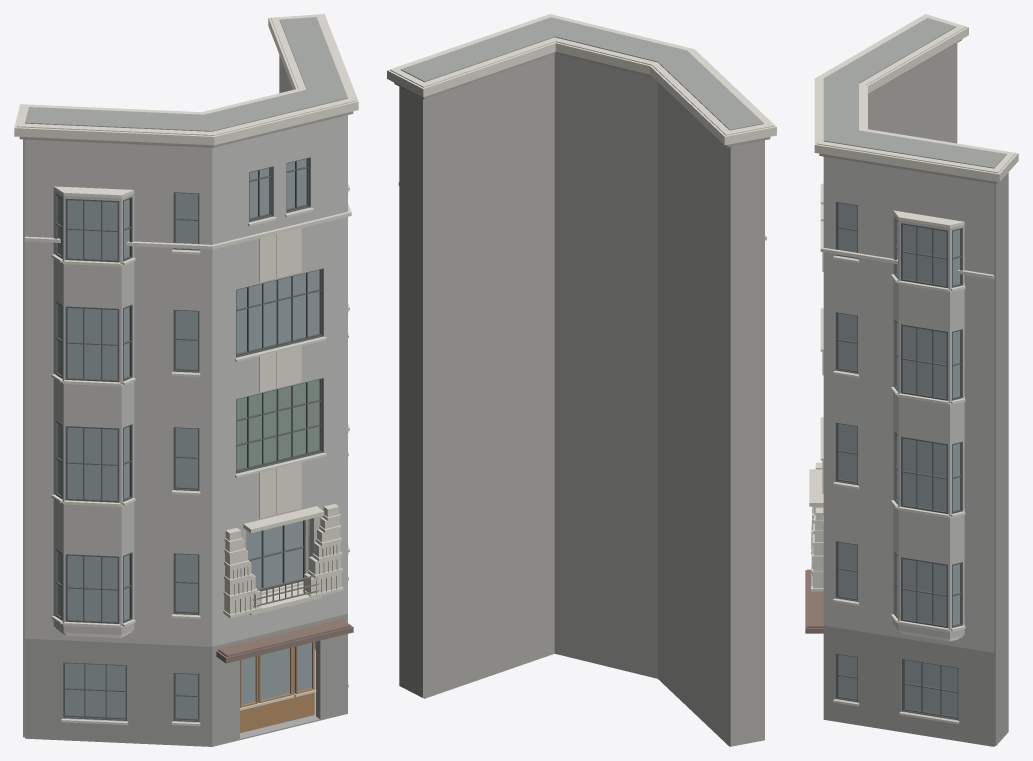
Rendered from xuhui-midget-apartments-web.glb.
3 renders of one model, left to right at view 1: azimuth 30°, elevation 25°; view 2: azimuth 150°, elevation 25°; view 3: azimuth 270°, elevation 25°, orthographic. The views are drawn at different scales.
Visible parts, largest first — view 1: 密丹公寓武康路与湖南路转角立面; view 2: 密丹公寓武康路与湖南路转角立面; view 3: 密丹公寓武康路与湖南路转角立面.
Part boxes in pixels (box(x1,y1,x2,y2)): 密丹公寓武康路与湖南路转角立面: box(14, 14, 358, 746); 密丹公寓武康路与湖南路转角立面: box(387, 14, 776, 746); 密丹公寓武康路与湖南路转角立面: box(805, 14, 1018, 746).
Size of the model in its own units: 12.4 by 20.86 by 6.95.
